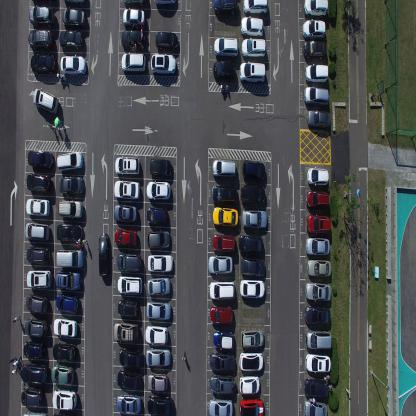car: (32, 86, 58, 117), (26, 148, 55, 172), (113, 320, 140, 344), (212, 204, 238, 228), (21, 362, 47, 386), (208, 279, 235, 302), (208, 374, 236, 396), (116, 368, 142, 391), (114, 178, 140, 201), (120, 51, 146, 74), (150, 52, 176, 75), (115, 393, 142, 415), (116, 274, 143, 296), (56, 150, 83, 172), (146, 394, 174, 415), (210, 183, 238, 204), (56, 248, 84, 269), (212, 59, 236, 83), (146, 179, 171, 202), (117, 250, 142, 273), (113, 202, 138, 225), (52, 387, 77, 410), (28, 27, 53, 50), (213, 36, 238, 59), (305, 352, 331, 374), (304, 305, 330, 327), (305, 280, 331, 302), (306, 213, 332, 235), (209, 352, 235, 374), (239, 256, 265, 278), (242, 208, 268, 230), (240, 183, 266, 205), (26, 172, 52, 194), (58, 30, 84, 52), (239, 61, 265, 83), (303, 85, 329, 107), (55, 269, 82, 290), (120, 27, 144, 50), (238, 350, 263, 372), (146, 300, 171, 322), (144, 323, 169, 345), (146, 346, 171, 368), (53, 341, 78, 363), (24, 220, 49, 242), (303, 377, 329, 398), (306, 258, 332, 279), (239, 278, 265, 299), (207, 254, 233, 275), (147, 253, 173, 274), (58, 175, 84, 196), (60, 54, 86, 75), (30, 53, 56, 74), (240, 38, 266, 59), (98, 233, 110, 278), (25, 268, 52, 288), (243, 158, 266, 181), (305, 188, 329, 210), (238, 233, 262, 255), (119, 346, 143, 368), (53, 316, 77, 338), (26, 196, 50, 218), (62, 7, 86, 29), (240, 16, 264, 38), (305, 236, 330, 257), (211, 232, 236, 253), (211, 157, 236, 178), (50, 364, 75, 385), (29, 5, 54, 26), (306, 330, 332, 350), (146, 276, 172, 296), (114, 155, 140, 175), (212, 330, 235, 352), (20, 386, 43, 408), (25, 293, 48, 315), (307, 108, 330, 130), (240, 328, 264, 349), (209, 305, 233, 326), (58, 198, 82, 219), (303, 40, 327, 61), (304, 63, 328, 84), (24, 318, 49, 338), (154, 30, 179, 50), (57, 222, 83, 241), (149, 156, 171, 178), (26, 245, 50, 265), (122, 8, 146, 28), (302, 19, 326, 39), (238, 397, 264, 415), (56, 293, 78, 314), (306, 165, 329, 185), (117, 298, 140, 318), (114, 228, 137, 248), (302, 0, 329, 17), (208, 397, 233, 415), (146, 230, 171, 248), (23, 340, 45, 360), (304, 398, 328, 416), (242, 0, 269, 16), (239, 374, 260, 394), (147, 206, 168, 226), (147, 372, 168, 392), (212, 0, 238, 15), (22, 408, 48, 416), (153, 0, 177, 8), (123, 0, 148, 7), (64, 0, 86, 6), (32, 0, 54, 5)
